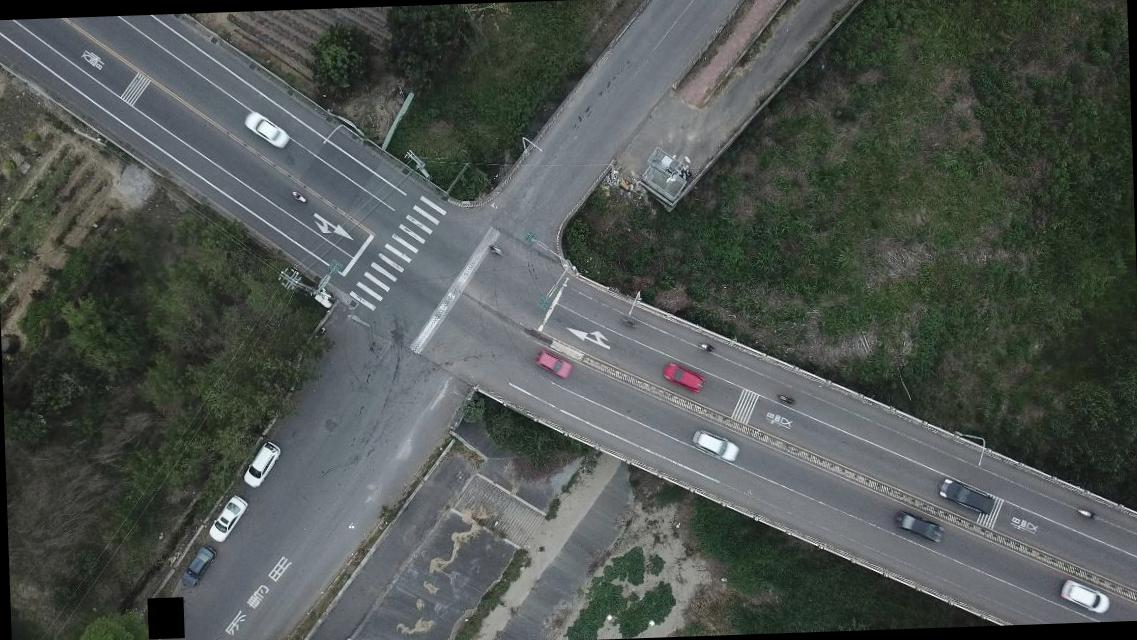vehicle: (937, 476, 994, 516), (204, 494, 250, 542), (1060, 579, 1112, 621), (891, 508, 945, 547), (242, 109, 290, 150), (240, 442, 281, 489), (691, 426, 740, 464), (662, 357, 706, 398), (181, 546, 218, 588), (532, 345, 571, 377)
